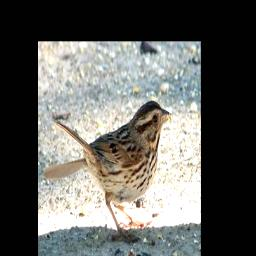Sparrow: (43, 98, 173, 245)
